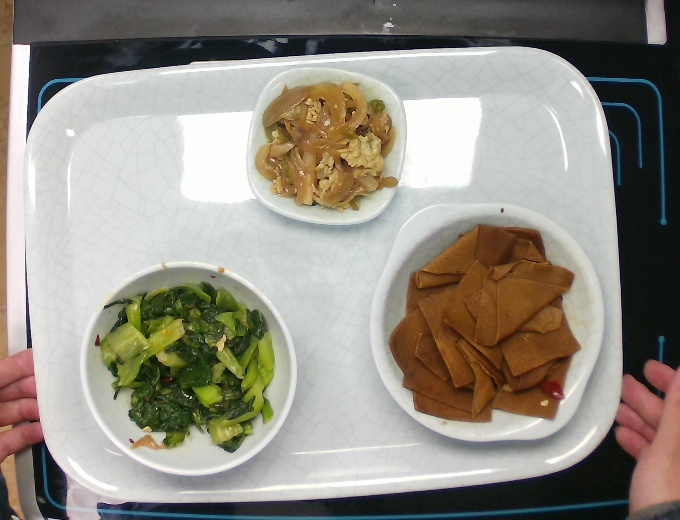JYsf-Fan_Wan: (75, 256, 297, 477)
JYsf-Shuang_Er_Wan: (369, 202, 608, 445)
JYsf-Si_Fang_Die: (240, 66, 411, 223)
